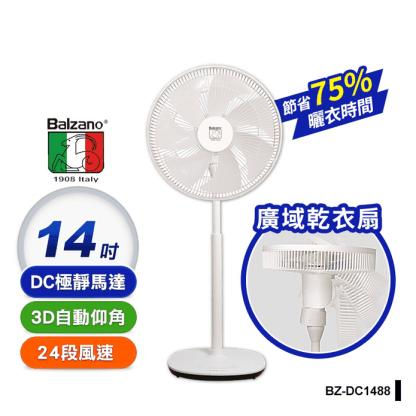fan: (136, 54, 290, 387)
